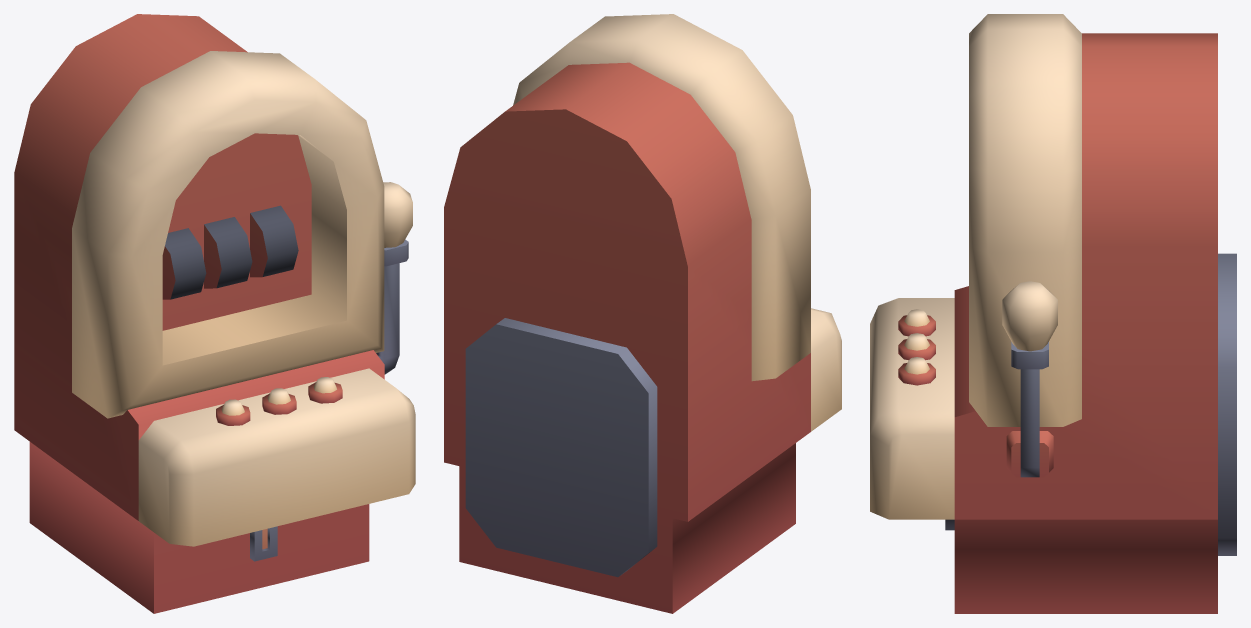
Rendered from gambling-machine.obj.
The picture shows the model from 3 angles, left to right: view 1: azimuth 30°, elevation 25°; view 2: azimuth 150°, elevation 25°; view 3: azimuth 270°, elevation 25°; orthographic projection. The views are drawn at different scales.
Parts seen in each view (by area): view 1: gambling-machine; view 2: gambling-machine; view 3: gambling-machine.
Part boxes in pixels (box(x1,y1,x2,y2)): gambling-machine: box(14, 14, 415, 613); gambling-machine: box(444, 14, 841, 613); gambling-machine: box(870, 14, 1236, 613).
Size of the model in its own units: 0.5245 by 0.7759 by 0.4875.
